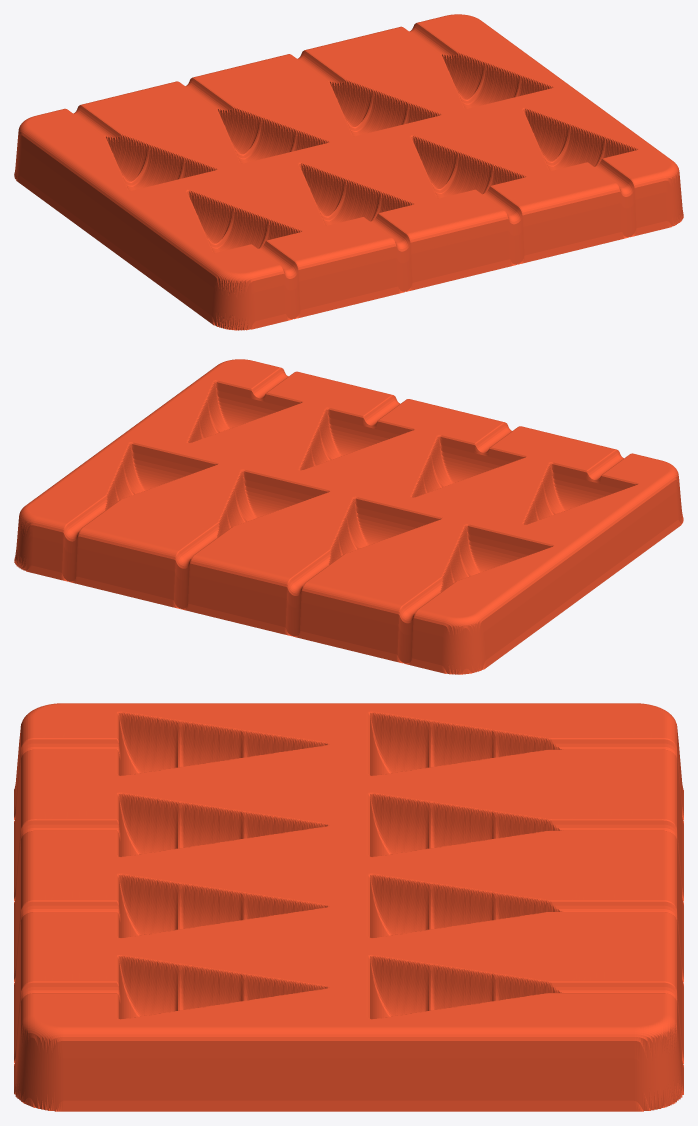
File: mold.glb
3 renders of one model, top to bottom at view 1: azimuth 30°, elevation 25°; view 2: azimuth 150°, elevation 25°; view 3: azimuth 270°, elevation 25°, orthographic. The views are drawn at different scales.
Visible parts, largest first — view 1: geometry_0; view 2: geometry_0; view 3: geometry_0.
Part boxes in pixels (box(x1,y1,x2,y2)): geometry_0: box(14, 14, 683, 330); geometry_0: box(14, 359, 683, 674); geometry_0: box(14, 703, 683, 1111).
Size of the model in its own units: 0.1472 by 0.0155 by 0.1229.
